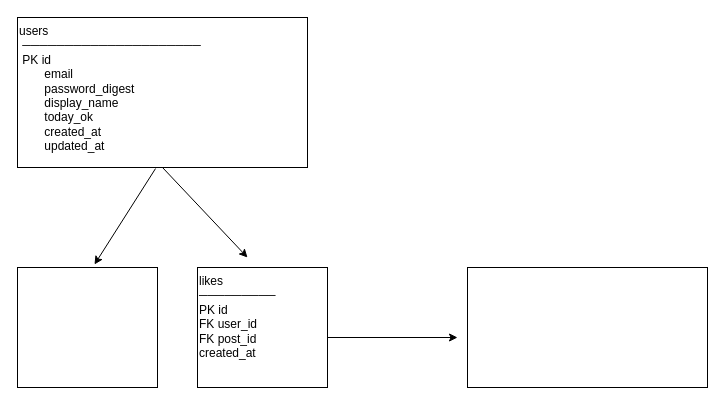
Some shapes in this 725 by 405 pixel diagram are drawn without their labels. The shapes that lost their labels are listed below. From the top down, each one's box as (x1, y1, x2, y2) in pixels, then its label:
(16, 266, 158, 388): posts ─────── PK id FK user_id content expires_at created_at
(466, 266, 708, 388): comments ───────────────── PK id FK user_id FK post_id content created_at
